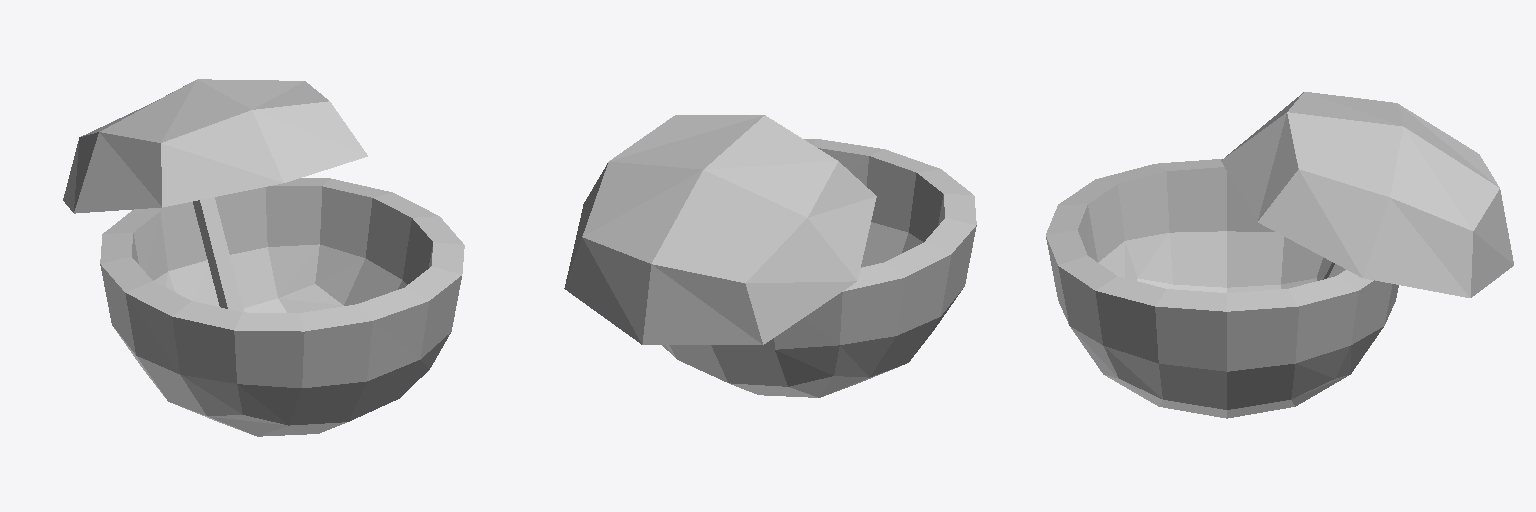
File: Coconut.obj
The picture shows the model from 3 angles: view 1: azimuth 30°, elevation 25°; view 2: azimuth 150°, elevation 25°; view 3: azimuth 270°, elevation 25°; orthographic projection.
Parts seen in each view (by area): view 1: Coconut; view 2: Coconut; view 3: Coconut.
Boxes of the visible parts, x1=… form: Coconut: x1=63, y1=79, x2=464, y2=436; Coconut: x1=564, y1=115, x2=976, y2=397; Coconut: x1=1046, y1=92, x2=1513, y2=418.
Size of the model in its own units: 3.71 by 3.24 by 4.79.